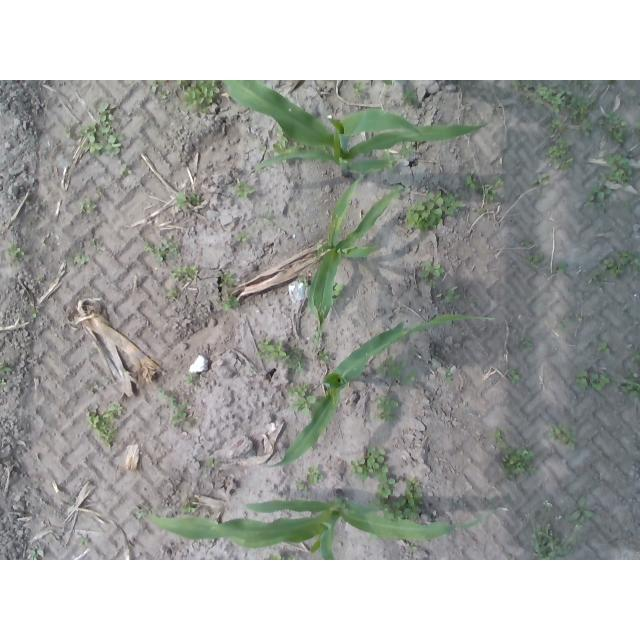Maize: (260, 313, 493, 472), (220, 80, 487, 178), (147, 490, 492, 560), (308, 173, 404, 347)
Weeds: (522, 501, 579, 559), (350, 446, 394, 512), (406, 190, 467, 231), (510, 80, 572, 114), (384, 478, 424, 523), (77, 119, 123, 157), (88, 403, 125, 450), (176, 81, 221, 116), (569, 96, 600, 138), (500, 446, 537, 481), (565, 495, 596, 533), (597, 112, 632, 144), (603, 152, 634, 187), (169, 392, 196, 429), (546, 138, 575, 171), (288, 384, 316, 417), (585, 176, 612, 208), (575, 370, 611, 393), (548, 424, 576, 453), (273, 124, 292, 165), (255, 338, 287, 361), (376, 355, 405, 380), (156, 237, 181, 263), (375, 395, 399, 421), (423, 261, 446, 286), (616, 249, 640, 271), (173, 191, 200, 210), (287, 347, 306, 374), (619, 373, 640, 397), (601, 257, 623, 278), (172, 265, 199, 282), (4, 244, 24, 265), (98, 102, 119, 122), (438, 286, 461, 304), (398, 140, 417, 161), (234, 182, 256, 199), (400, 88, 420, 106), (382, 150, 399, 170), (306, 465, 323, 485), (219, 297, 241, 312), (150, 80, 166, 100), (463, 169, 477, 191), (217, 272, 236, 288), (79, 198, 98, 214), (332, 281, 345, 304), (482, 184, 499, 201), (547, 119, 565, 135), (67, 252, 89, 265), (585, 271, 607, 284), (184, 371, 203, 386), (532, 173, 550, 188), (526, 251, 545, 265), (509, 366, 523, 384), (491, 428, 505, 445), (27, 548, 46, 560), (351, 81, 365, 96), (404, 369, 417, 385), (166, 285, 180, 299), (392, 185, 405, 200), (519, 336, 534, 348), (236, 230, 251, 242), (317, 350, 332, 362), (203, 458, 219, 469), (574, 80, 591, 90), (134, 506, 147, 519), (294, 482, 309, 493), (0, 361, 12, 374), (558, 317, 570, 330), (598, 342, 610, 355), (180, 506, 196, 515), (555, 262, 566, 275), (443, 369, 454, 382), (120, 165, 133, 176), (299, 276, 310, 288), (494, 174, 504, 187), (76, 537, 89, 547), (520, 238, 533, 248), (143, 241, 154, 252), (310, 331, 322, 341), (268, 553, 285, 560), (157, 387, 168, 397), (633, 349, 640, 363), (286, 552, 298, 560), (28, 309, 37, 319), (634, 122, 640, 135), (408, 545, 419, 552), (367, 533, 378, 540), (380, 80, 392, 86), (622, 202, 630, 210), (1, 379, 8, 386), (478, 207, 486, 213), (260, 145, 266, 152)
